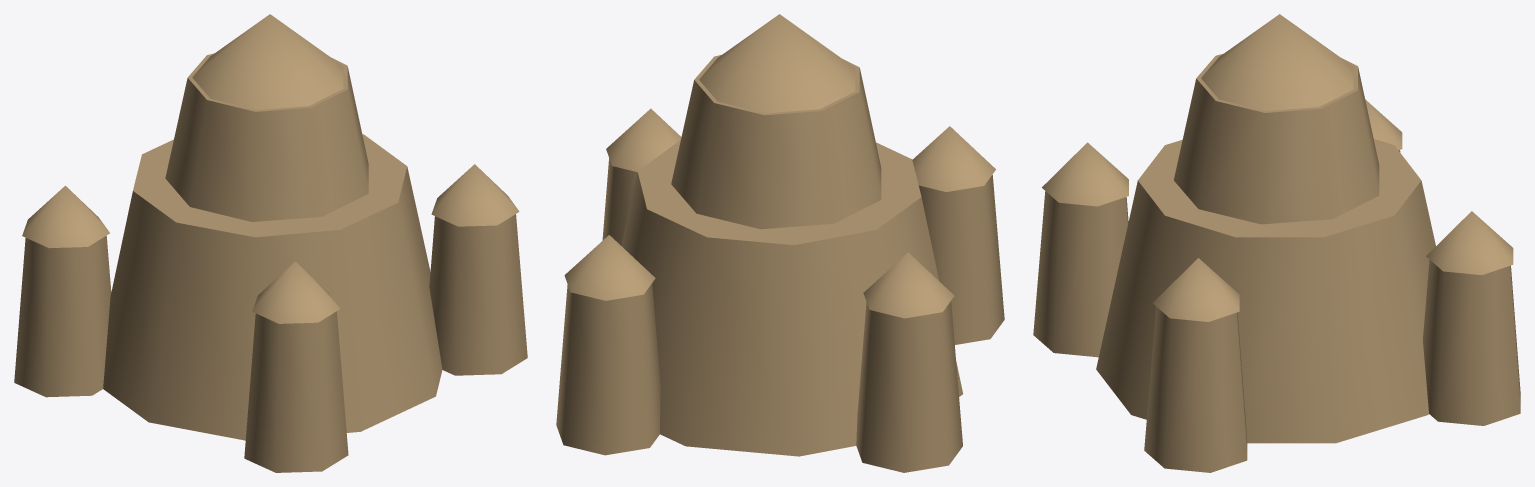
Rendered from sandcastle.glb.
The picture shows the model from 3 angles, left to right: view 1: azimuth 30°, elevation 25°; view 2: azimuth 150°, elevation 25°; view 3: azimuth 270°, elevation 25°; orthographic projection. The views are drawn at different scales.
Parts seen in each view (by area): view 1: sandcastle; view 2: sandcastle; view 3: sandcastle.
Part boxes in pixels (<box>): sandcastle: <box>14,14,527,472</box>; sandcastle: <box>556,14,1004,472</box>; sandcastle: <box>1033,14,1520,472</box>.
Bounding box in the file's own units: 1.17 × 0.94 × 1.17.
